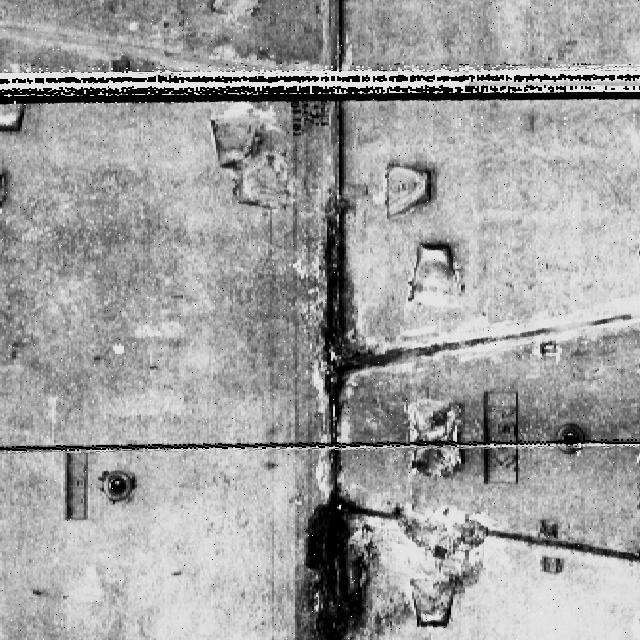leakage: (306, 191, 390, 440), (286, 451, 394, 639)
